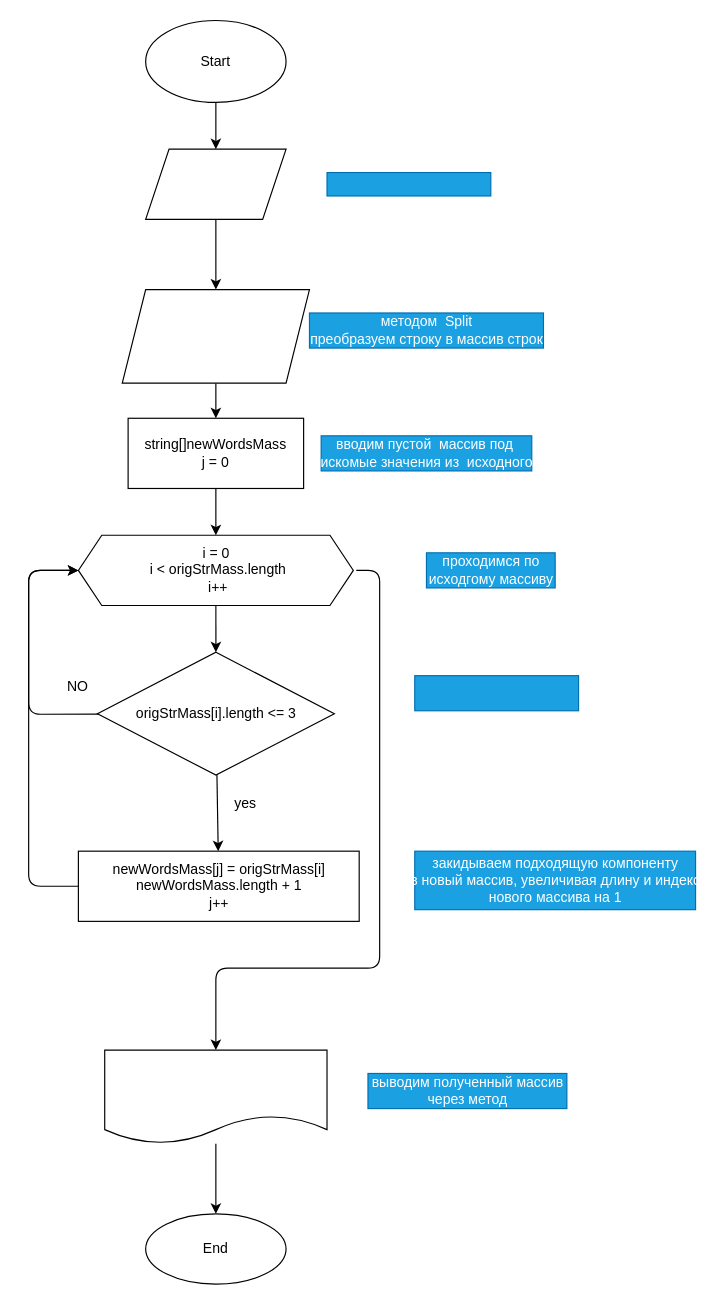
This 721x1305 diagram has some shape labels left out. Here are the shapes that lost their labels. From the top down, the box of each, then its label:
(144, 148, 286, 219): ввод с консоли string origStr
(326, 171, 491, 196): Ввод строки с консоли
(121, 288, 309, 383): Split origStr -> []origStrMass
(414, 675, 579, 711): если длина компоненты подходит по условиям
(104, 1049, 327, 1144): PrintArray(newWordsMass)
